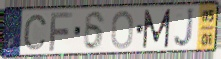6: (82, 10, 106, 51)
C: (22, 13, 48, 52)
F: (48, 11, 74, 53)
J: (173, 7, 196, 50)
M: (141, 8, 172, 50)
O: (110, 9, 135, 50)
